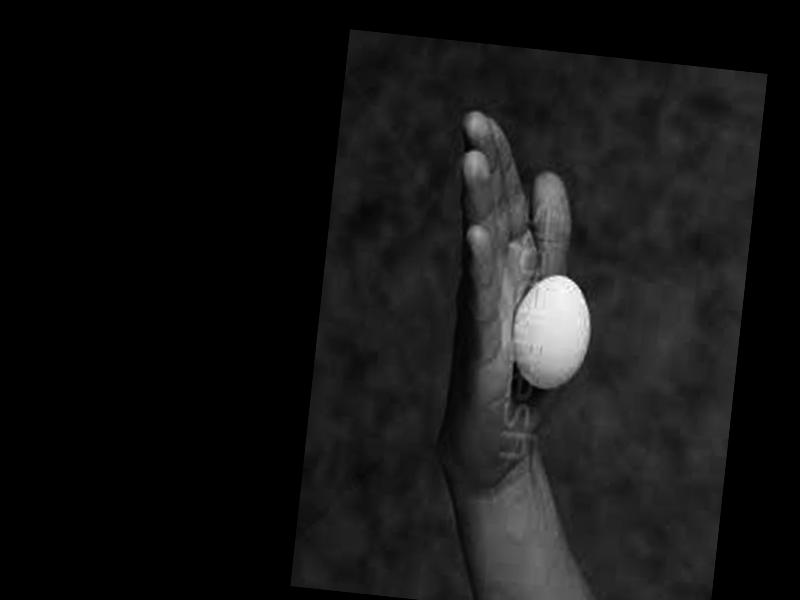Eggs: (507, 271, 598, 394)
